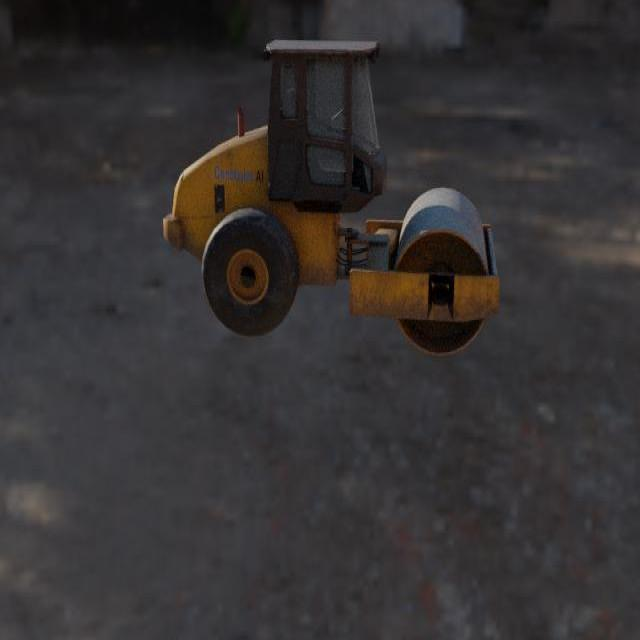Roller: (162, 39, 500, 356)
